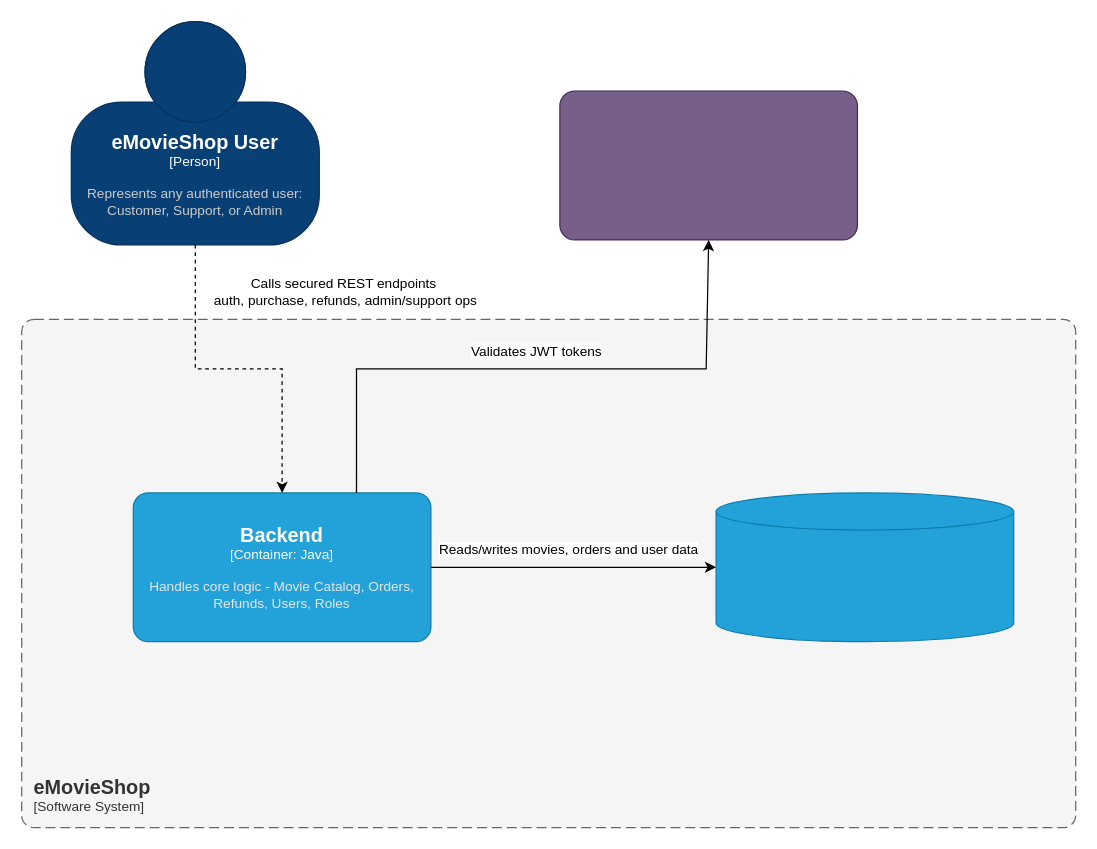
Some shapes in this 1097 by 849 pixel diagram are drawn without their labels. Each missing label, with the centre of its shape:
"Auth Service [Service: Auth0] Handles user authentication and issues JWT tokens" belongs at point 708,165.
"Database [Container: MySQL] Stores movies, orders and users" belongs at point 864,567.
